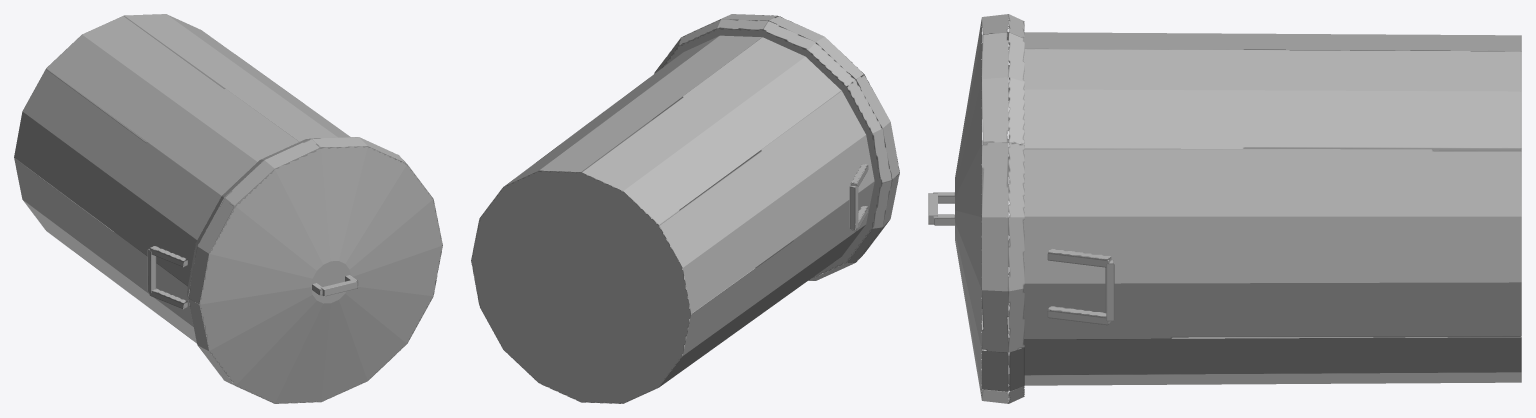
File: metal_trashcan.obj
The picture shows the model from 3 angles, left to right: view 1: azimuth 30°, elevation 25°; view 2: azimuth 150°, elevation 25°; view 3: azimuth 270°, elevation 25°; orthographic projection. The views are drawn at different scales.
Visible parts, largest first — view 1: metal_trashcan; view 2: metal_trashcan; view 3: metal_trashcan.
Boxes of the visible parts, bbox=[...] form: metal_trashcan: bbox=[14, 14, 442, 403]; metal_trashcan: bbox=[471, 14, 899, 403]; metal_trashcan: bbox=[928, 14, 1521, 403].
Bounding box in the file's own units: 0.649 × 0.64 × 0.973.
Materials: 1 (1 with a texture image).
